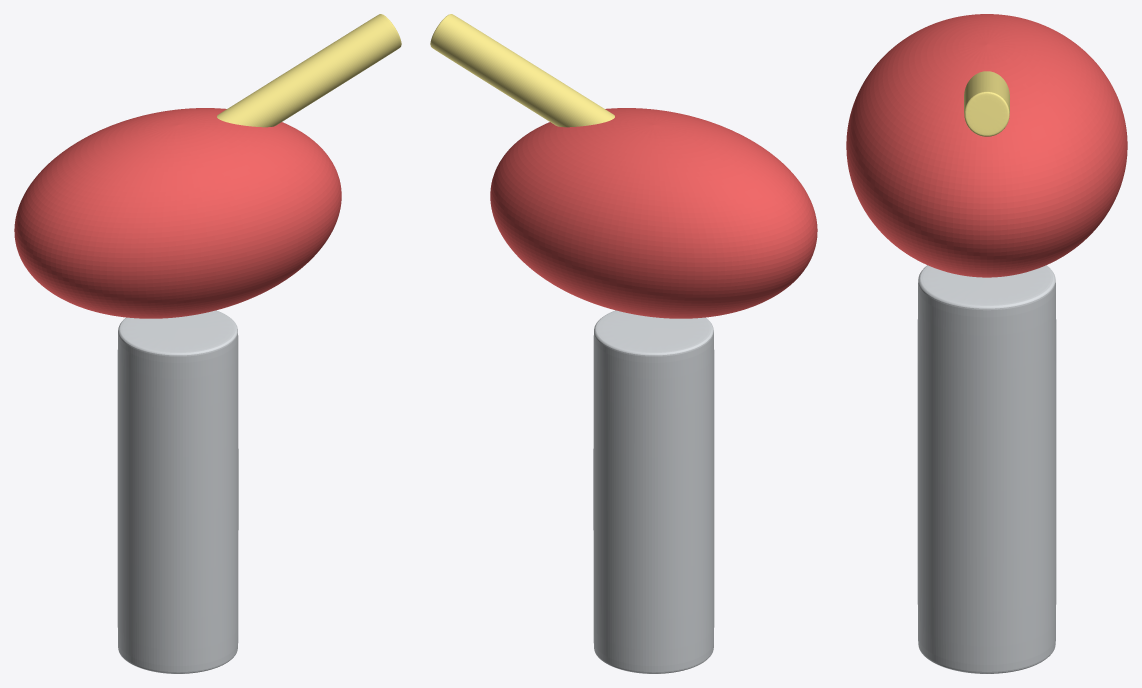
Rendered from Toy_SpringRider_Hi.fbx.
The picture shows the model from 3 angles, left to right: view 1: azimuth 30°, elevation 25°; view 2: azimuth 150°, elevation 25°; view 3: azimuth 270°, elevation 25°; orthographic projection. The views are drawn at different scales.
Visible parts, largest first — view 1: Sphere, Cylinder, Cylinder.001; view 2: Sphere, Cylinder, Cylinder.001; view 3: Sphere, Cylinder, Cylinder.001.
Part boxes in pixels (x1,y1,x2,y2): Sphere: (14,108,341,318); Cylinder: (117,310,238,673); Cylinder.001: (217,14,401,127); Sphere: (490,108,817,318); Cylinder: (593,310,714,673); Cylinder.001: (430,14,614,127); Sphere: (846,14,1127,277); Cylinder: (917,265,1056,673); Cylinder.001: (964,71,1009,136).
Bounding box in the file's own units: 0.8423 × 1.27 × 0.4837.
